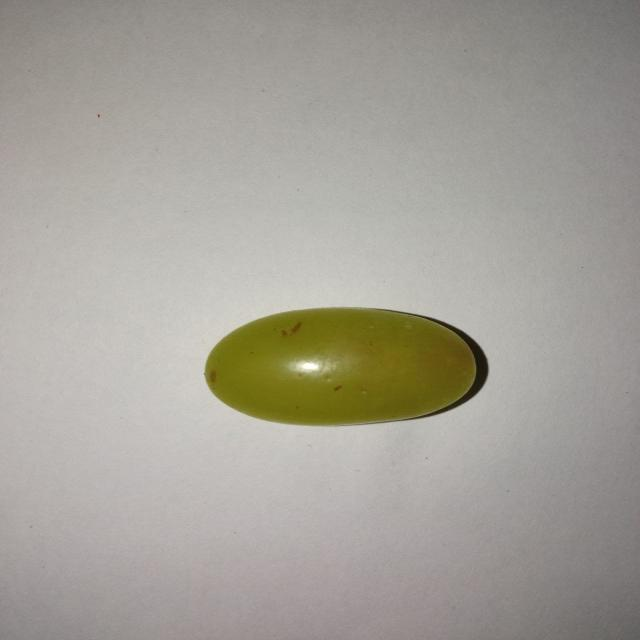fresh_grape: (205, 308, 477, 424)
